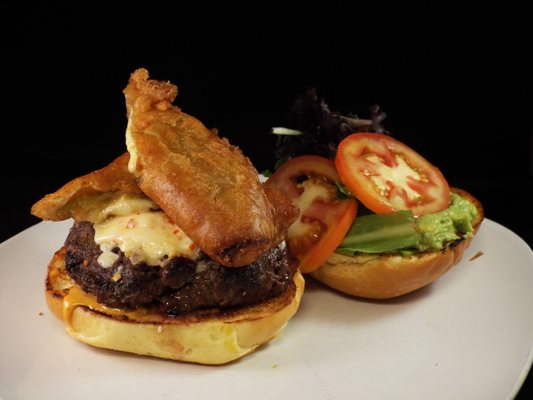soup: (35, 74, 306, 366), (264, 131, 485, 301)
